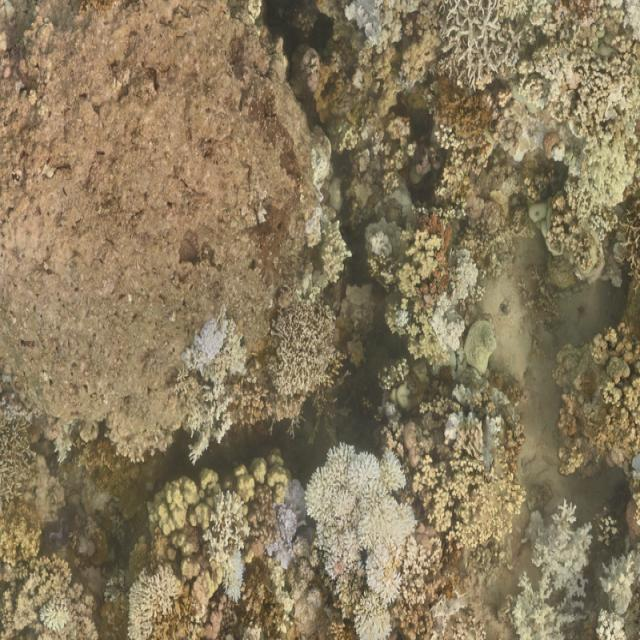Bleached Coral: (310, 449, 406, 640), (508, 503, 593, 640), (213, 495, 255, 609), (129, 560, 181, 639), (174, 312, 233, 374), (605, 540, 640, 640), (271, 476, 304, 571), (336, 1, 392, 51), (426, 298, 467, 352), (453, 240, 482, 299), (33, 594, 75, 628)
